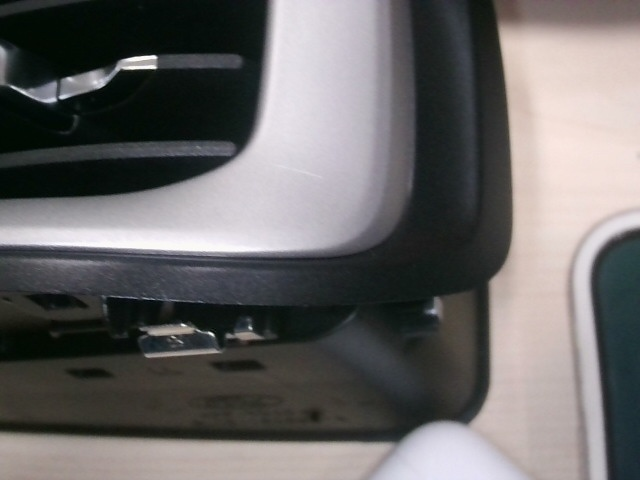NG: (269, 156, 330, 186), (133, 280, 182, 308)
